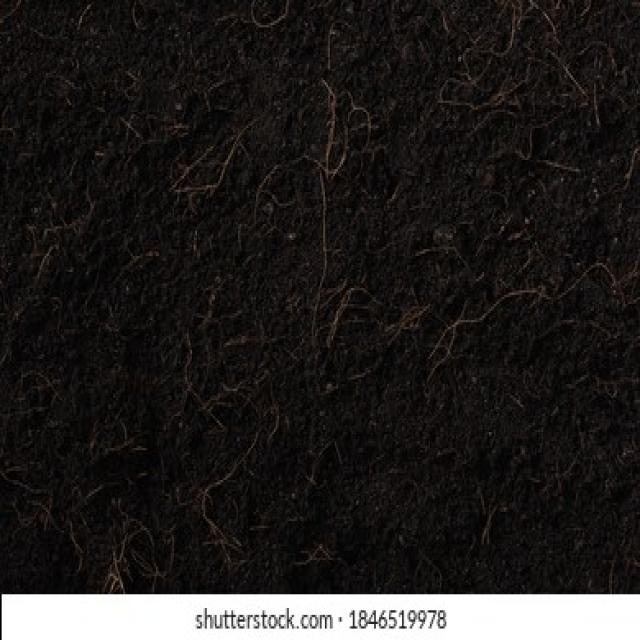Black Soil: (54, 116, 607, 496)
